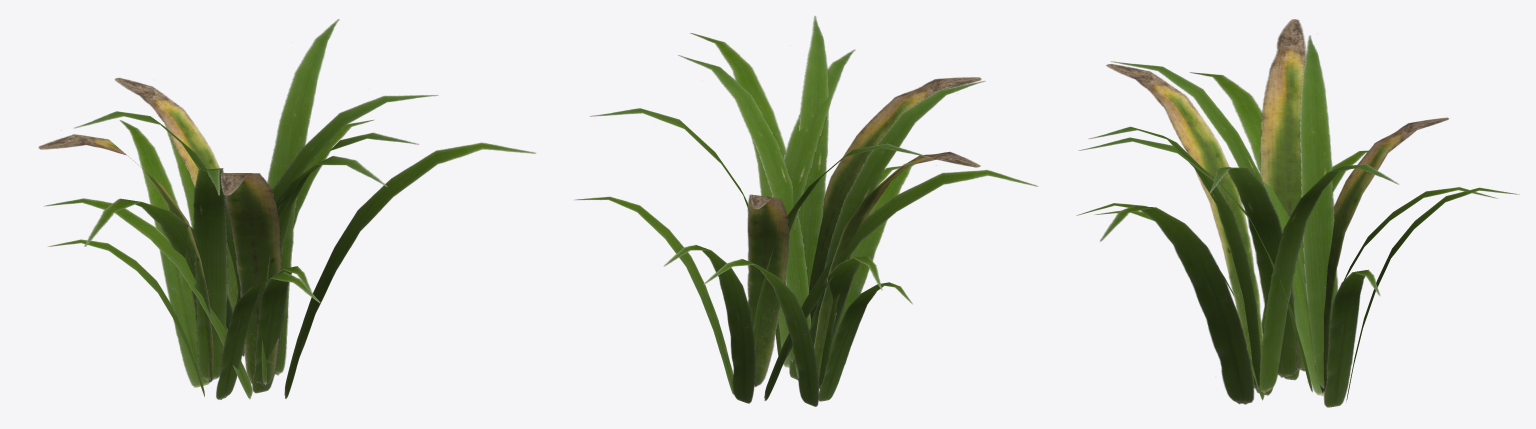
File: grass_foliage_three.glb
3 renders of one model, left to right at view 1: azimuth 30°, elevation 25°; view 2: azimuth 150°, elevation 25°; view 3: azimuth 270°, elevation 25°, orthographic. The views are drawn at different scales.
Parts seen in each view (by area): view 1: Object_3.100, Object_3.116, Object_3.103, Object_3.099, Object_3.113, Object_3.106, Object_3.111, Object_3.102, Object_3.112, Object_3.101, Object_3.115, Object_3.105 (+6 smaller); view 2: Object_3.106, Object_3.100, Object_3.115, Object_3.104, Object_3.116, Object_3.105, Object_3.108, Object_3.113, Object_3.109, Object_3.112, Object_3.099, Object_3.114 (+5 smaller); view 3: Object_3.110, Object_3.112, Object_3.099, Object_3.100, Object_3.103, Object_3.115, Object_3.105, Object_3.106, Object_3.107, Object_3.104, Object_3.116, Object_3.109 (+3 smaller).
Part boxes in pixels (x1,y1,x2,y2): Object_3.100: [220, 173, 281, 386]; Object_3.116: [193, 168, 227, 381]; Object_3.103: [267, 19, 339, 375]; Object_3.099: [284, 142, 536, 398]; Object_3.113: [119, 120, 209, 387]; Object_3.106: [114, 77, 244, 356]; Object_3.111: [216, 271, 320, 399]; Object_3.102: [252, 266, 312, 393]; Object_3.112: [38, 130, 213, 382]; Object_3.101: [44, 198, 252, 398]; Object_3.115: [236, 95, 438, 303]; Object_3.105: [84, 198, 241, 360]; Object_3.106: [747, 194, 789, 386]; Object_3.100: [809, 77, 981, 323]; Object_3.115: [678, 55, 811, 378]; Object_3.104: [786, 15, 828, 362]; Object_3.116: [813, 81, 985, 388]; Object_3.105: [764, 170, 1038, 400]; Object_3.108: [663, 245, 755, 403]; Object_3.113: [703, 259, 818, 406]; Object_3.109: [767, 49, 855, 370]; Object_3.112: [814, 151, 980, 381]; Object_3.099: [690, 33, 789, 367]; Object_3.114: [818, 282, 912, 401]; Object_3.110: [1299, 35, 1337, 388]; Object_3.112: [1260, 19, 1306, 373]; Object_3.099: [1100, 206, 1254, 404]; Object_3.100: [1106, 64, 1262, 389]; Object_3.103: [1259, 164, 1399, 393]; Object_3.115: [1209, 167, 1296, 377]; Object_3.105: [1189, 72, 1324, 396]; Object_3.106: [1320, 117, 1448, 393]; Object_3.107: [1324, 269, 1380, 407]; Object_3.104: [1088, 126, 1260, 387]; Object_3.116: [1110, 61, 1264, 187]; Object_3.109: [1078, 137, 1312, 392].
Bounding box in the file's own units: 2.37 × 1.57 × 2.15.
Materials: 1 (1 with a texture image).
